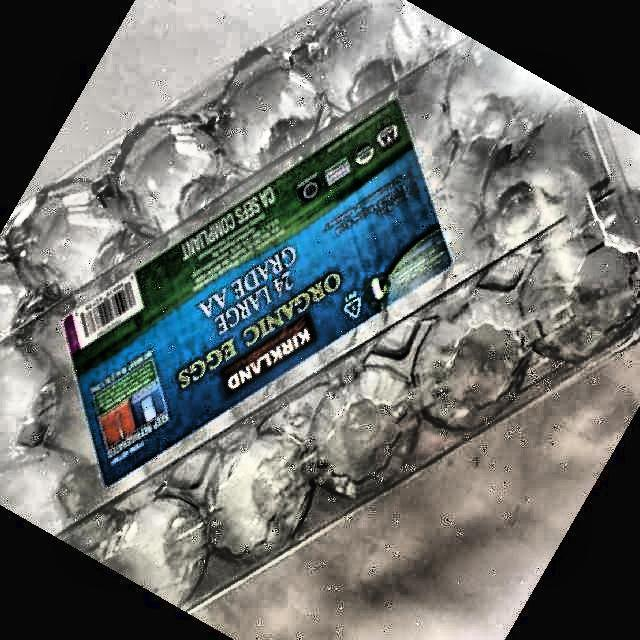plastic: (0, 2, 640, 609)
